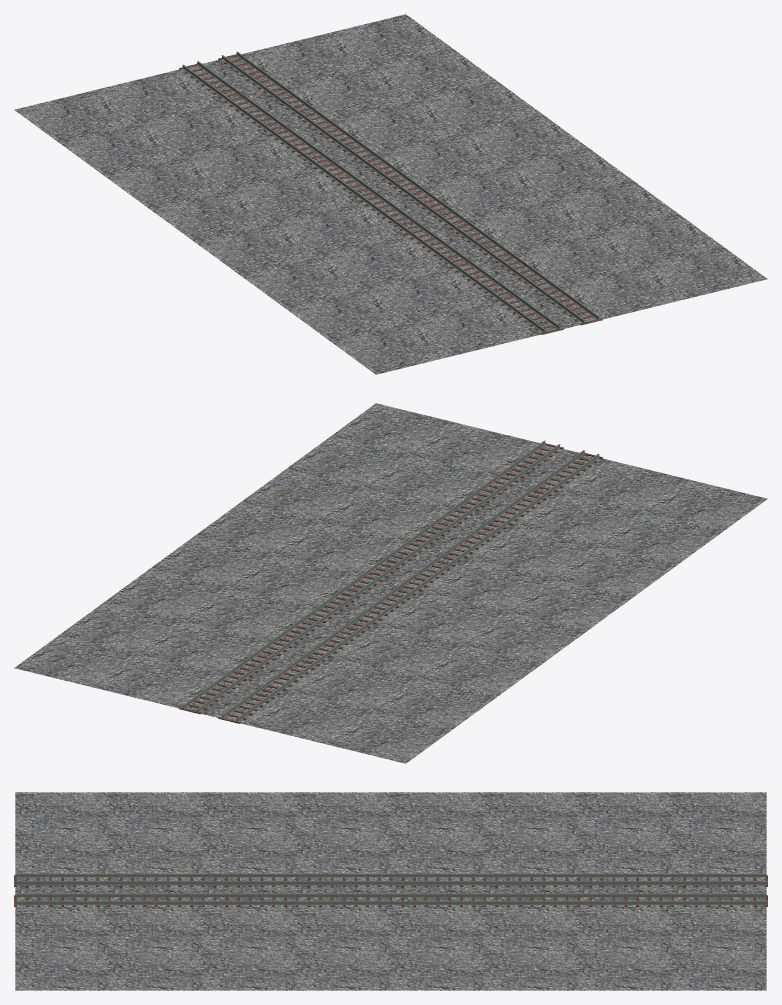
Rendered from chunk_binario.obj.
The picture shows the model from 3 angles, top to bottom: view 1: azimuth 30°, elevation 25°; view 2: azimuth 150°, elevation 25°; view 3: azimuth 270°, elevation 25°; orthographic projection. The views are drawn at different scales.
Parts seen in each view (by area): view 1: Plane.007_Plane, rail_h_inf.001_Cube.004, assa.144_Cube.005; view 2: Plane.007_Plane, rail_h_inf.001_Cube.004, assa.144_Cube.005; view 3: Plane.007_Plane, rail_h_inf.001_Cube.004, assa.144_Cube.005.
Boxes of the visible parts, x1=… form: Plane.007_Plane: x1=14, y1=14, x2=767, y2=374; rail_h_inf.001_Cube.004: x1=182, y1=51, x2=599, y2=332; assa.144_Cube.005: x1=179, y1=54, x2=602, y2=334; Plane.007_Plane: x1=14, y1=403, x2=767, y2=763; rail_h_inf.001_Cube.004: x1=182, y1=440, x2=599, y2=721; assa.144_Cube.005: x1=179, y1=443, x2=602, y2=723; Plane.007_Plane: x1=15, y1=792, x2=766, y2=990; rail_h_inf.001_Cube.004: x1=15, y1=873, x2=766, y2=904; assa.144_Cube.005: x1=14, y1=875, x2=767, y2=906.
Bounding box in the file's own units: 160 × 1.45 × 257.
Materials: 4 (2 with a texture image).
